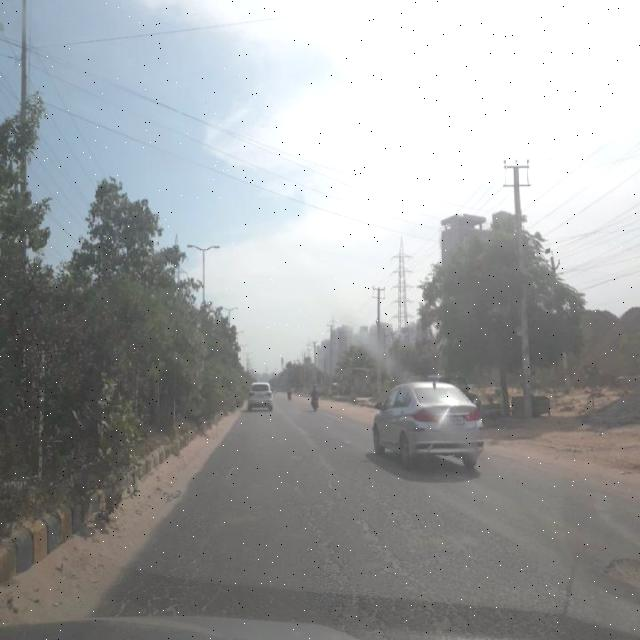D20: (137, 458, 578, 638)
D40: (602, 554, 640, 594)
